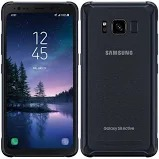samsung: (1, 1, 78, 159), (80, 1, 157, 159)
